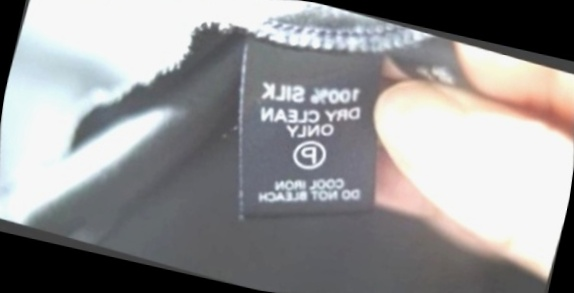dry_clean_any_solvent_except_trichloroethylene: (279, 125, 339, 183)
